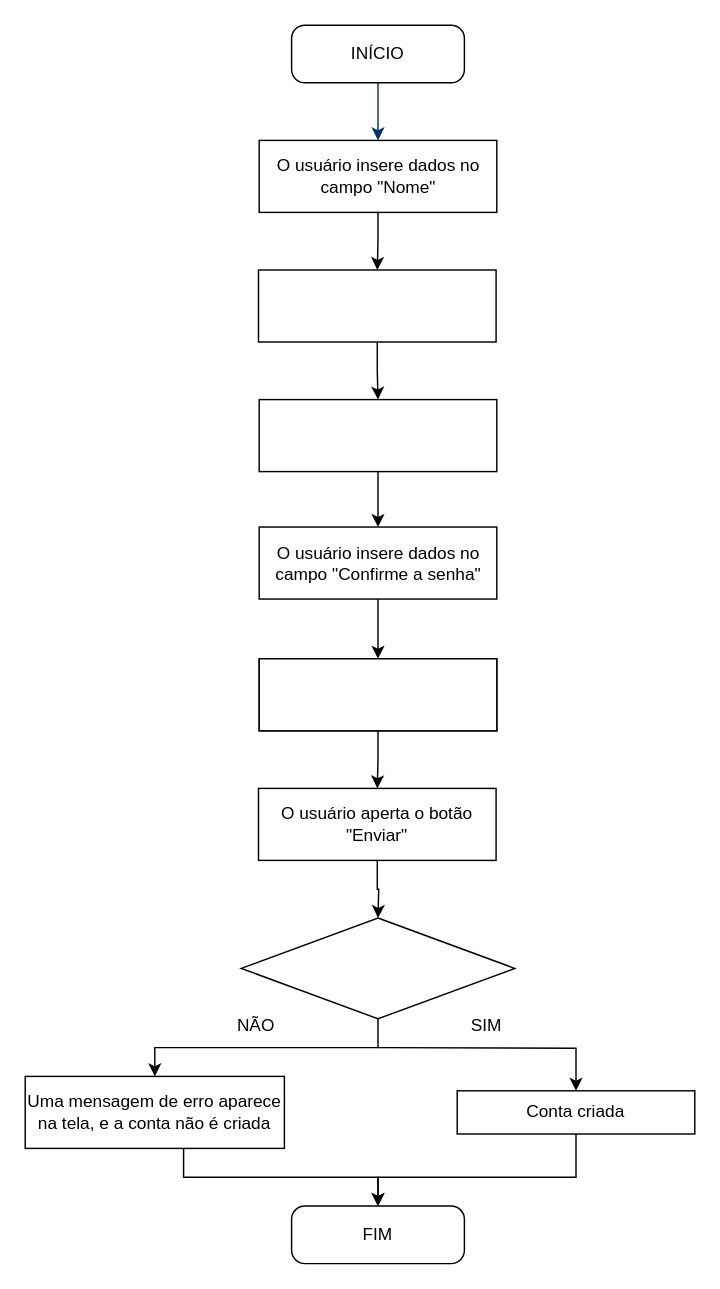
Image size: 720x1289. Some labels were removed from this diagram. Here are the shapes that lost their labels. From the top down, the centre of each, then its label:
point (376, 305): O usuário insere dados no campo "E-mail"
point (377, 435): O usuário insere dados no campo "Senha"
point (377, 694): O usuário insere dados no campo "Data de nascimento"
point (377, 968): os dados de entrada nos campos são validos?
